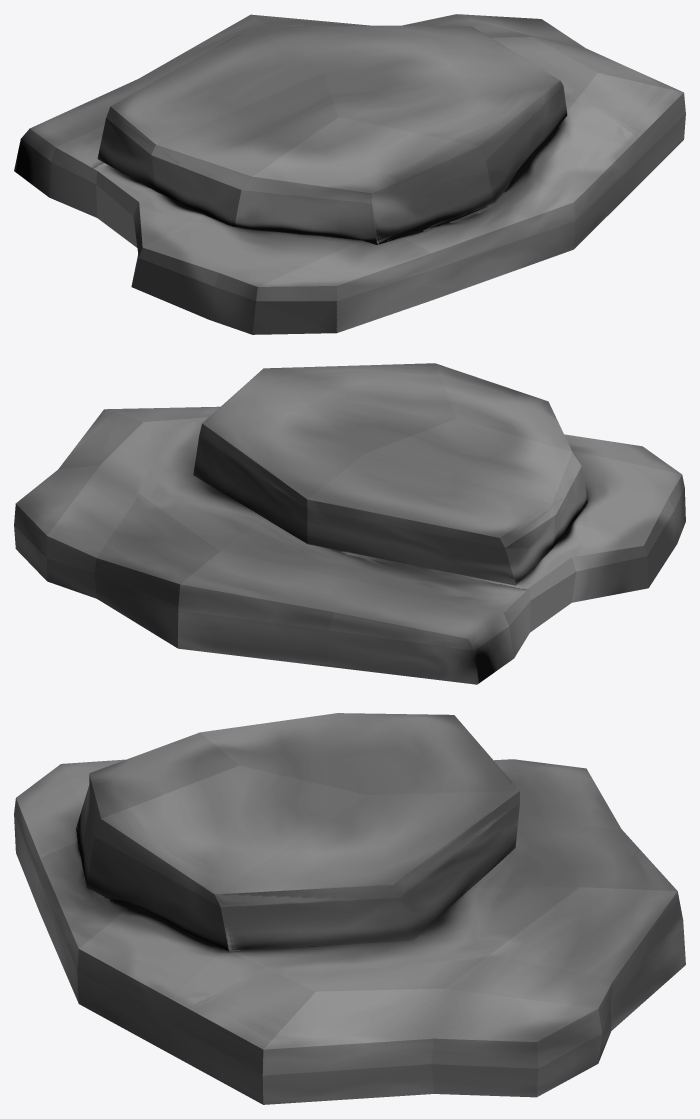
File: plateau.glb
3 views of the same model, one above another, from view 1: azimuth 30°, elevation 25°; view 2: azimuth 150°, elevation 25°; view 3: azimuth 270°, elevation 25° (orthographic). The views are drawn at different scales.
Parts seen in each view (by area): view 1: poor_plateau; view 2: poor_plateau; view 3: poor_plateau.
Part boxes in pixels (x1,y1,x2,y2): poor_plateau: (14,14,685,334); poor_plateau: (14,363,685,684); poor_plateau: (14,713,685,1104).
Bounding box in the file's own units: 3.39 × 0.7144 × 3.01.
1 material, 1 textured.
